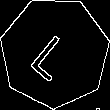L_NE: (27, 23, 82, 82)
